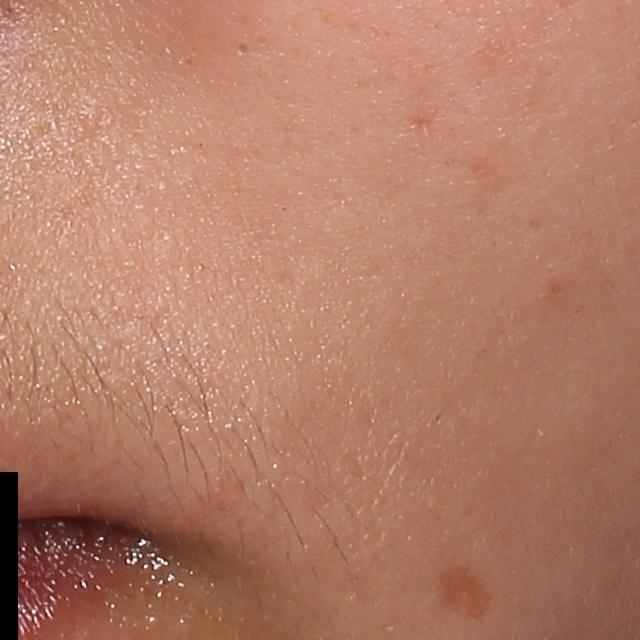comedo: (235, 37, 255, 59)
